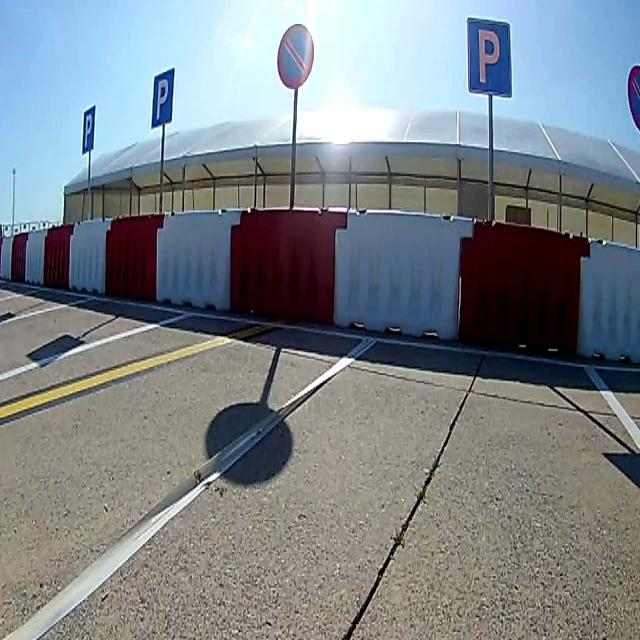park: (468, 18, 511, 98), (153, 69, 172, 127), (84, 107, 94, 150)
parkyasak: (278, 27, 314, 87)
